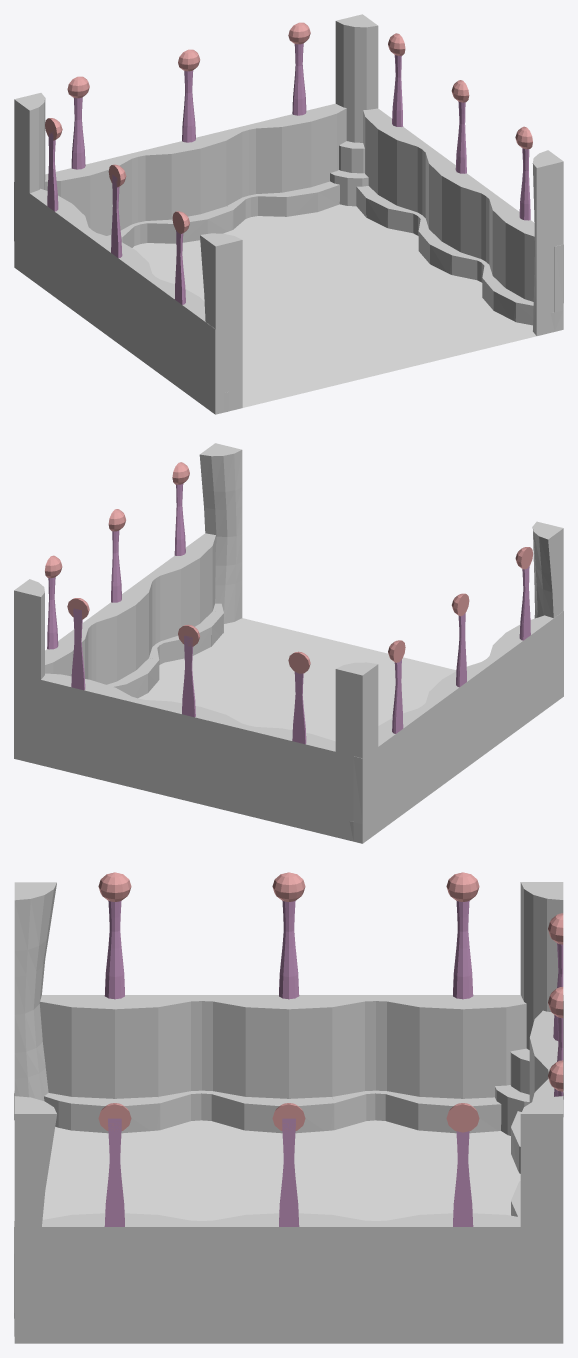
3 views of the same model, one above another, from view 1: azimuth 30°, elevation 25°; view 2: azimuth 150°, elevation 25°; view 3: azimuth 270°, elevation 25° (orthographic). The views are drawn at different scales.
Parts seen in each view (by area): view 1: Esquina baranda P-giros, Baranda.3, Baranda.10, Baranda.2, Encastres.2 (×2), Encastres.13 (×2), Microfono (×6), Microfono.1 (×3); view 2: Baranda.3, Baranda.10, Esquina baranda P-giros, Baranda.2, Encastres.2 (×2), Encastres.13 (×2), Microfono (×6), Microfono.1 (×3); view 3: Baranda.2, Baranda.10, Esquina baranda P-giros, Encastres.2 (×2), Encastres.13 (×2), Microfono (×10), Microfono.1 (×2), Baranda.3.
Part boxes in pixels (<box>): Esquina baranda P-giros: <box>132,204,536,407</box>; Baranda.3: <box>45,103,346,247</box>; Baranda.10: <box>14,182,228,414</box>; Baranda.2: <box>356,108,563,331</box>; Encastres.2 (×2): <box>330,14,563,335</box>; Encastres.13 (×2): <box>14,93,242,414</box>; Microfono (×6): <box>71,55,466,304</box>; Microfono.1 (×3): <box>47,43,530,220</box>; Baranda.3: <box>22,673,353,841</box>; Baranda.10: <box>349,611,563,843</box>; Esquina baranda P-giros: <box>138,618,456,741</box>; Baranda.2: <box>45,533,223,698</box>; Encastres.2 (×2): <box>14,443,242,765</box>; Encastres.13 (×2): <box>335,521,563,843</box>; Microfono (×6): <box>47,530,530,744</box>; Microfono.1 (×3): <box>71,484,403,733</box>; Baranda.2: <box>14,1213,549,1343</box>; Baranda.10: <box>14,995,563,1133</box>; Esquina baranda P-giros: <box>42,1120,520,1220</box>; Encastres.2 (×2): <box>14,1096,563,1343</box>; Encastres.13 (×2): <box>14,882,563,1135</box>; Microfono (×10): <box>98,872,479,1226</box>; Microfono.1 (×2): <box>104,900,473,1226</box>; Baranda.3: <box>511,1010,558,1217</box>.
Size of the model in its own units: 280 by 135 by 281.
